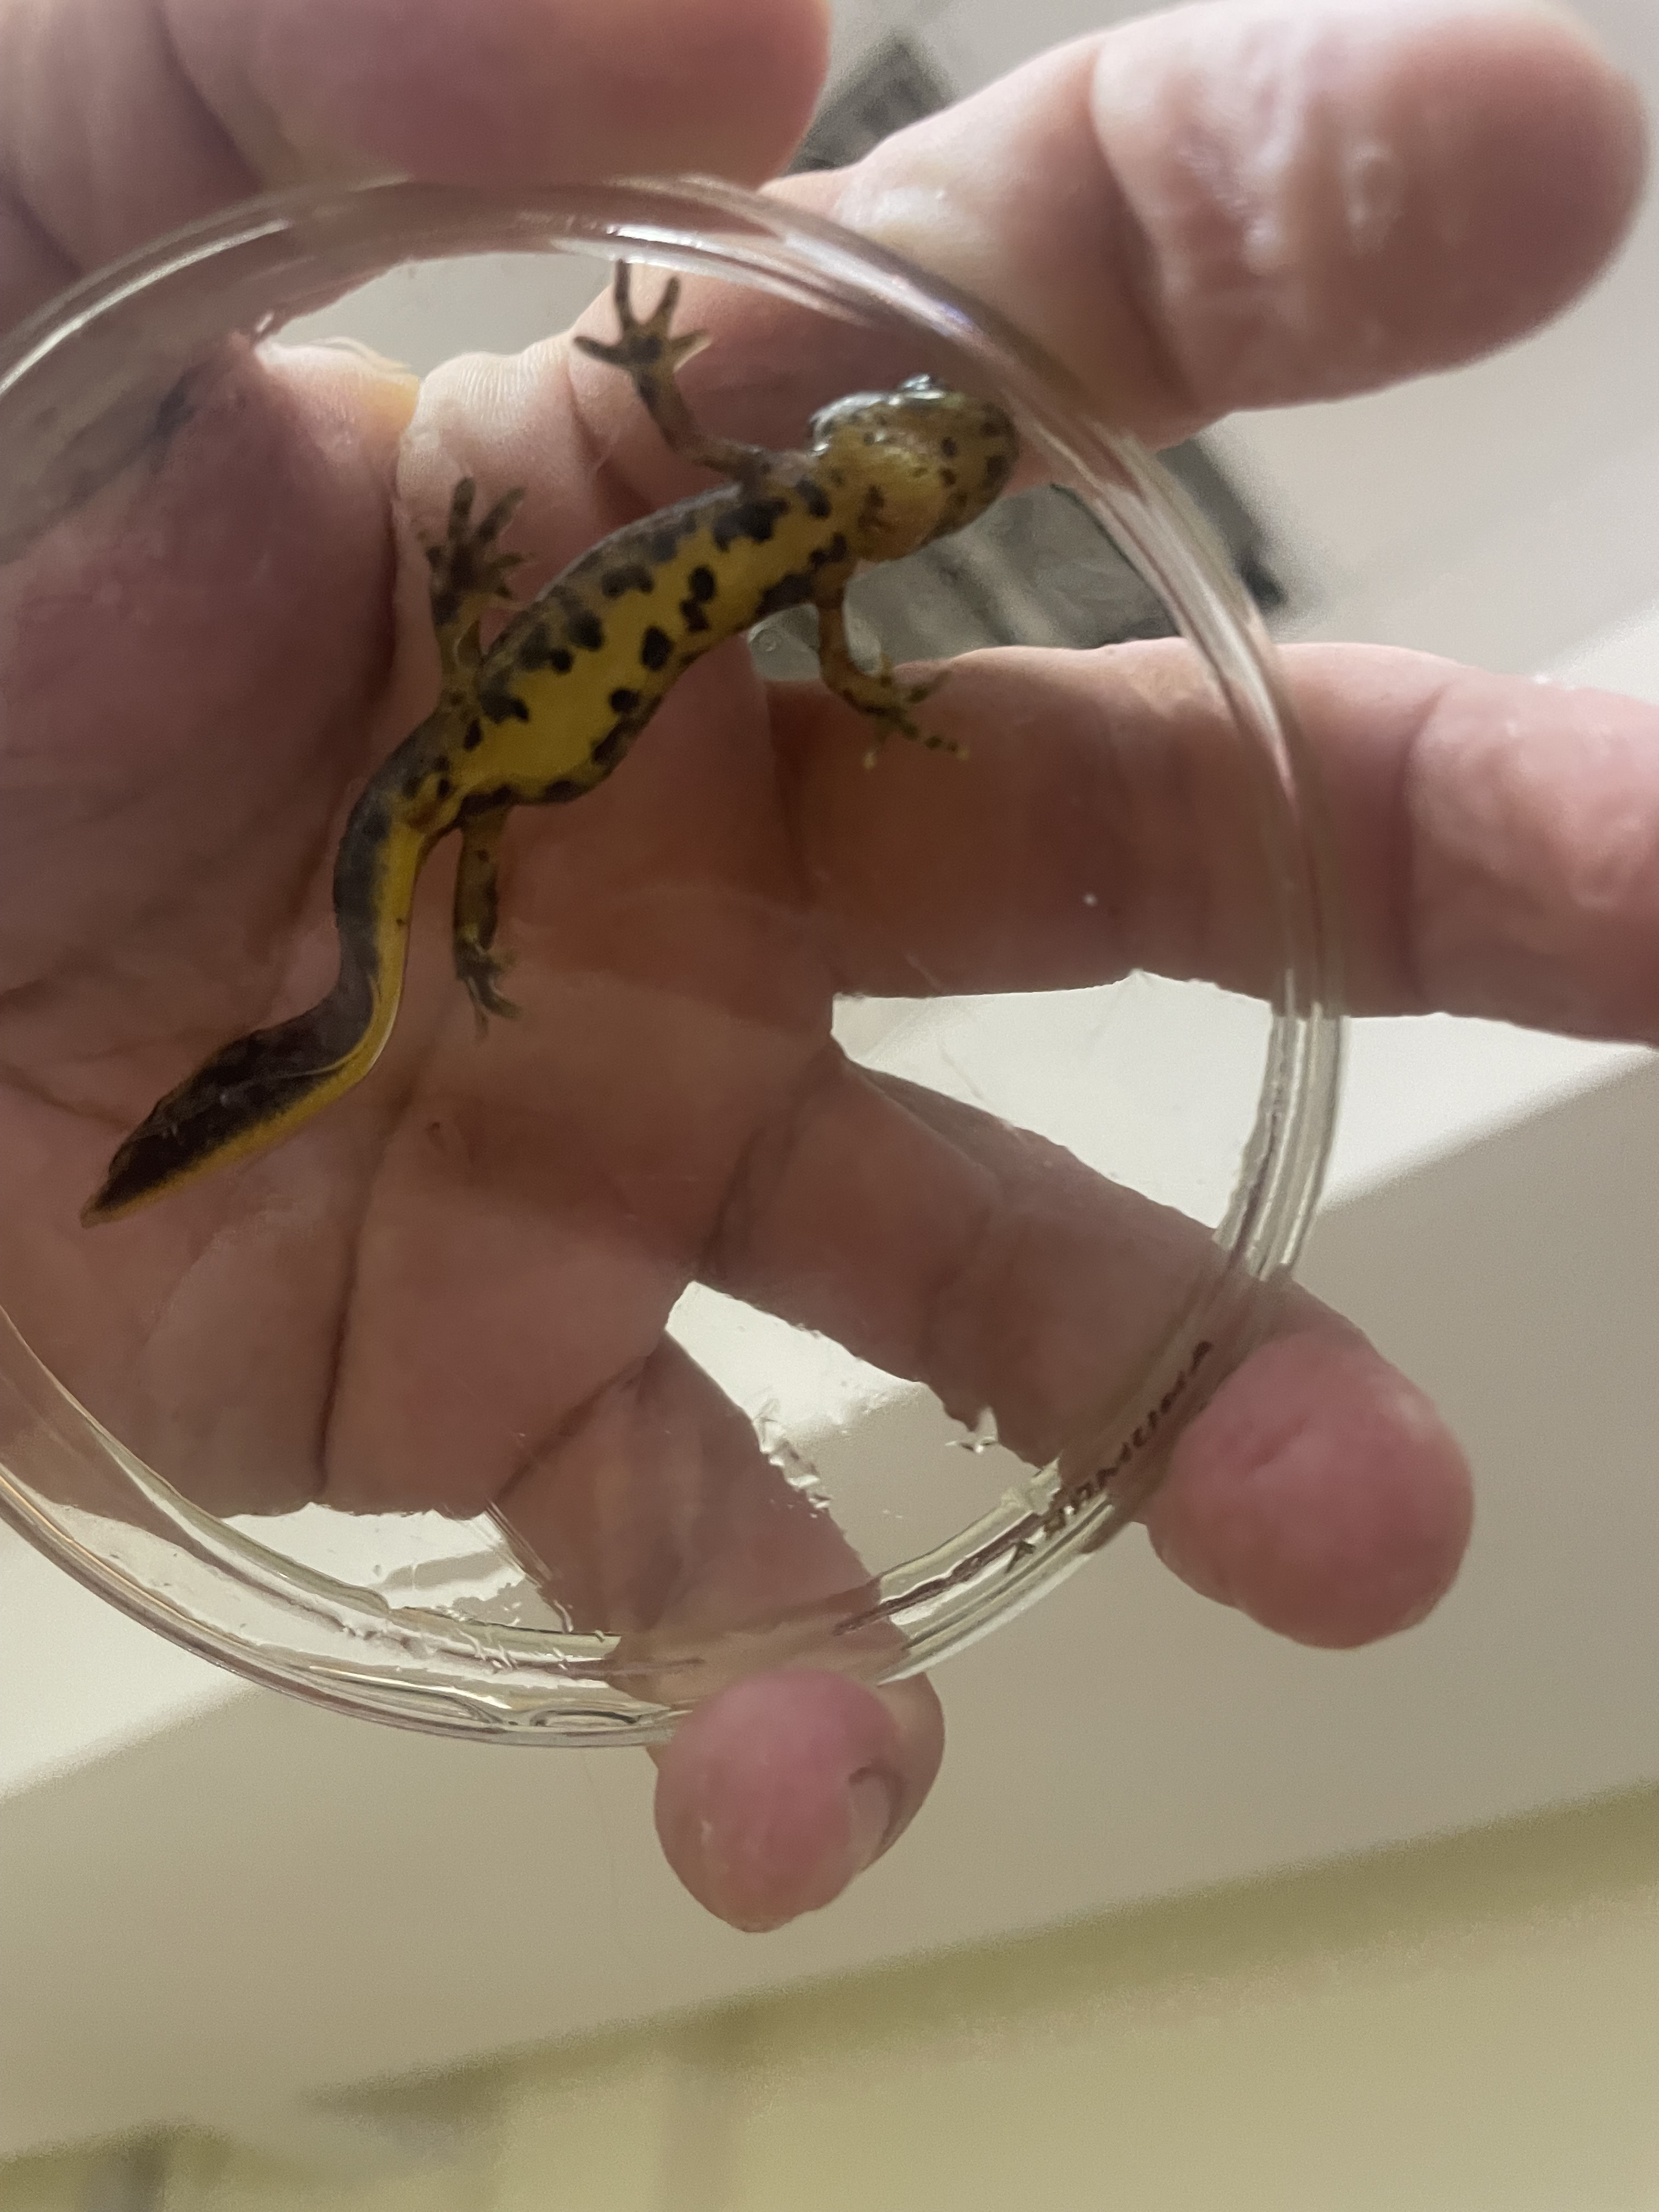Karelin_newt: (481, 482, 812, 805)
